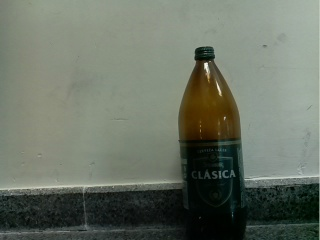pote cristal: (177, 47, 245, 233)
